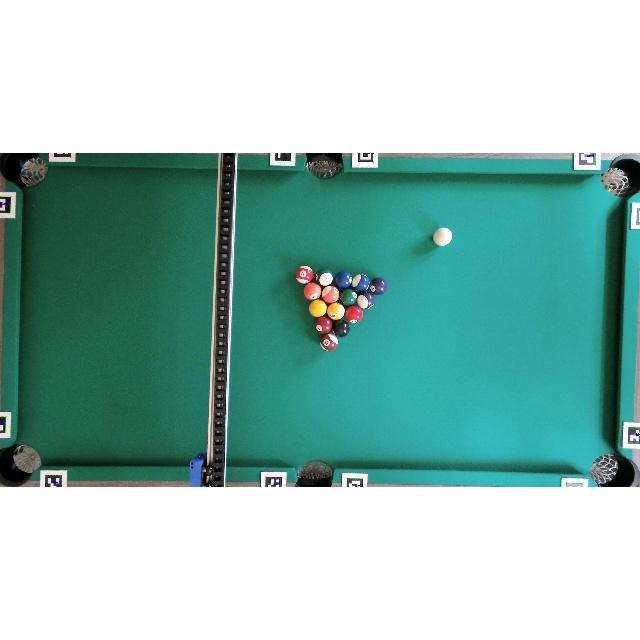cue ball: (432, 227, 452, 247)
other: (315, 268, 334, 287), (352, 273, 370, 293), (345, 305, 364, 323), (309, 300, 328, 318), (295, 266, 314, 284), (320, 332, 338, 351), (332, 319, 350, 337), (357, 291, 375, 309), (327, 302, 345, 320), (304, 282, 322, 300), (314, 316, 332, 334), (369, 277, 387, 295), (334, 271, 352, 289), (340, 289, 358, 306), (322, 285, 339, 303)
